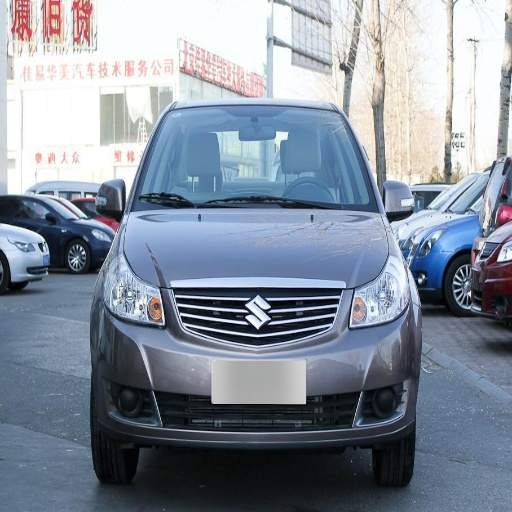front_bumper: (97, 288, 414, 443)
front_right_light: (103, 255, 165, 327)
hood: (123, 207, 388, 347)
left_mirror: (383, 179, 416, 222)
